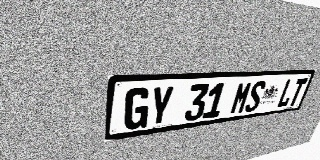1: (202, 83, 227, 119)
3: (184, 84, 210, 122)
G: (123, 87, 151, 131)
L: (276, 79, 298, 108)
M: (229, 81, 253, 115)
S: (244, 80, 267, 113)
T: (287, 78, 308, 106)
Y: (147, 86, 175, 127)
